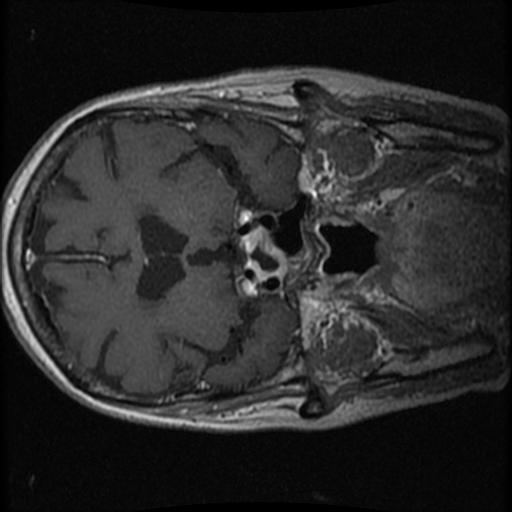pituitary tumour: (233, 200, 288, 295)
